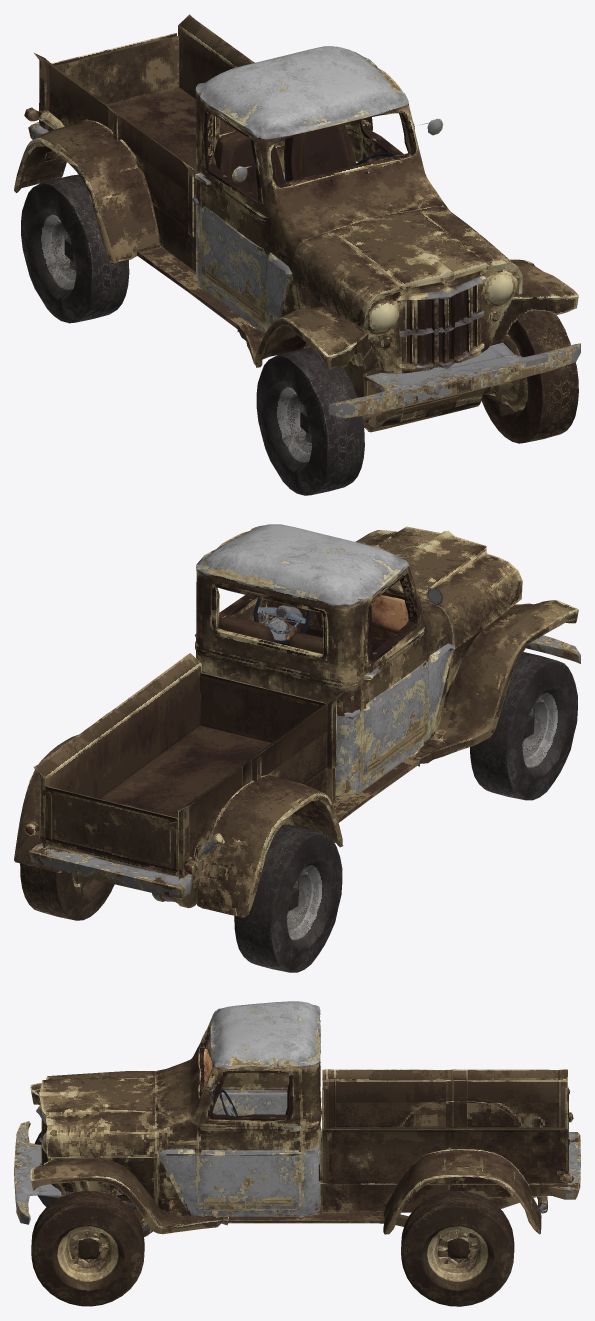
Rendered from npc_pickup.glb.
3 renders of one model, top to bottom at view 1: azimuth 30°, elevation 25°; view 2: azimuth 150°, elevation 25°; view 3: azimuth 270°, elevation 25°, orthographic. The views are drawn at different scales.
Visible parts, largest first — view 1: body, wheel_fr, wheel_rr, wheel_fl; view 2: body, wheel_rr, wheel_fr, wheel_rl, steering_wheel; view 3: body, wheel_fl, wheel_rl.
Part boxes in pixels (x1,y1,x2,y2): body: (14,14,580,432); wheel_fr: (256,347,364,495); wheel_rr: (21,174,129,323); wheel_fl: (481,310,578,443); body: (14,524,580,917); wheel_rr: (234,824,342,972); wheel_fr: (470,652,577,800); wheel_rl: (20,853,114,920); steering_wheel: (253,598,311,644); body: (14,1001,580,1237); wheel_fl: (31,1190,144,1306); wheel_rl: (401,1191,514,1306).
Bounding box in the file's own units: 1.97 × 2.19 × 4.72.
6 materials, 6 textured.
